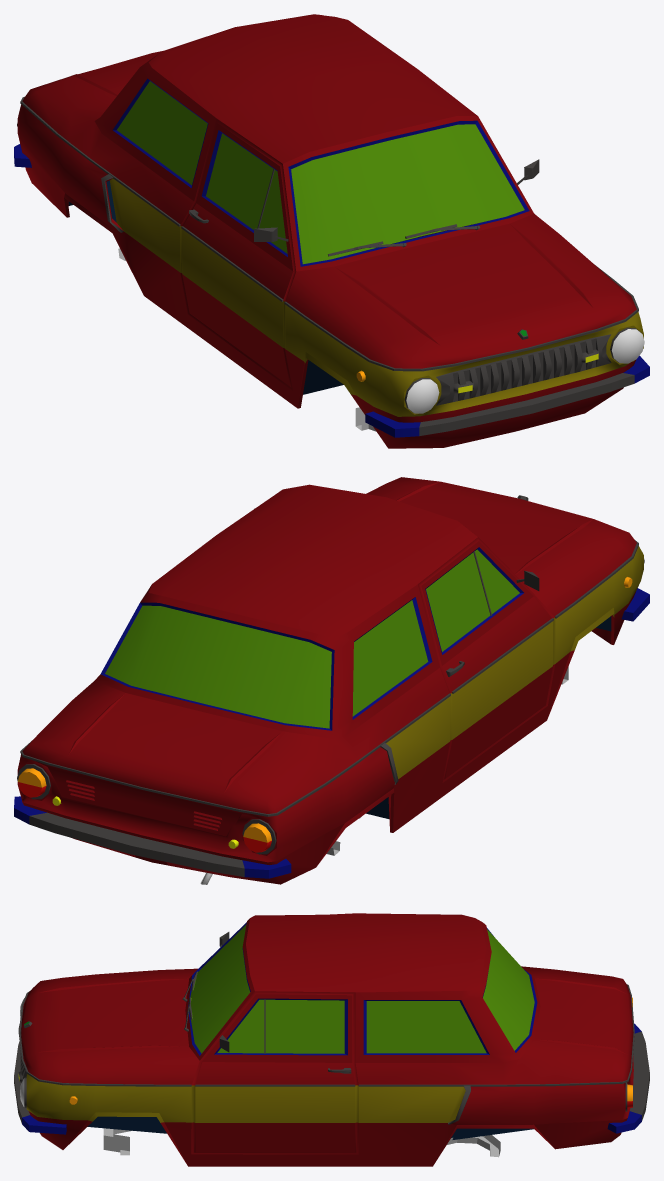
The model's file is Zaporojec.fbx.
3 renders of one model, top to bottom at view 1: azimuth 30°, elevation 25°; view 2: azimuth 150°, elevation 25°; view 3: azimuth 270°, elevation 25°, orthographic. The views are drawn at different scales.
Parts seen in each view (by area): view 1: Body; view 2: Body; view 3: Body.
Boxes of the visible parts, x1,y1,x2,y2 form: Body: [14, 14, 649, 448]; Body: [14, 477, 649, 884]; Body: [14, 913, 649, 1166].
Size of the model in its own units: 154 by 115 by 371.
